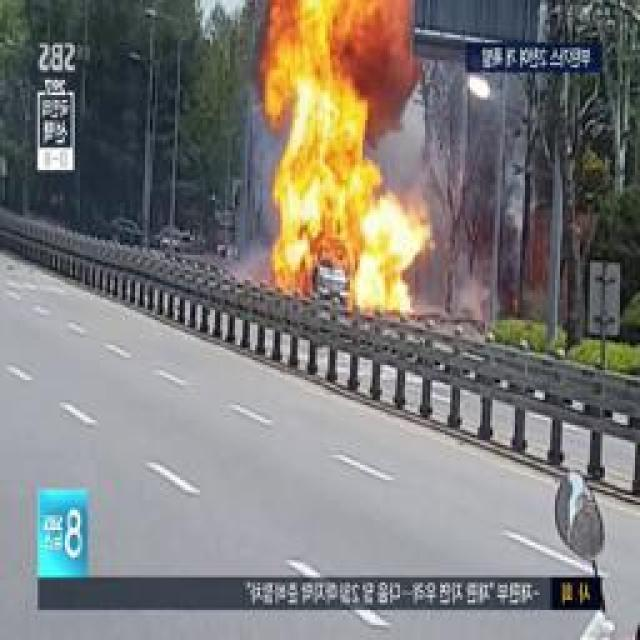Fire: (275, 154, 409, 300), (283, 16, 367, 143)
